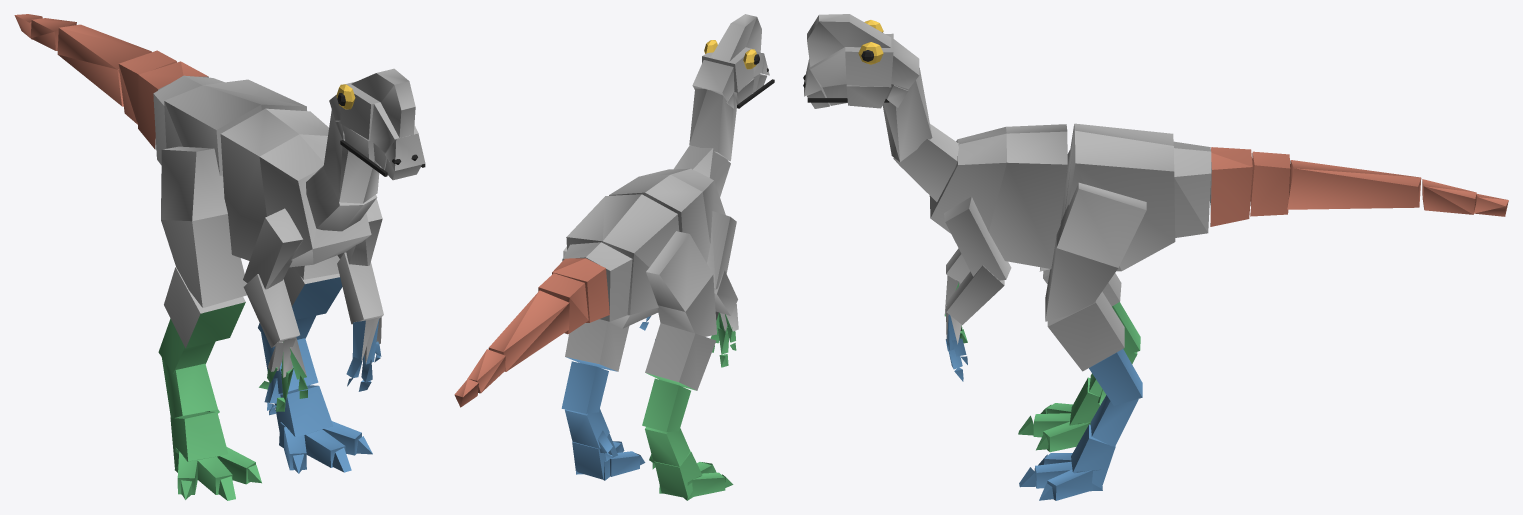
Rendered from oviraptor.fbx.
3 views of the same model, side by side, from view 1: azimuth 30°, elevation 25°; view 2: azimuth 150°, elevation 25°; view 3: azimuth 270°, elevation 25° (orthographic). The views are drawn at different scales.
Parts seen in each view (by area): view 1: oviraptor_Body, oviraptor_LegR, oviraptor_LegL, oviraptor_Tail, oviraptor_Dark; view 2: oviraptor_Body, oviraptor_Tail, oviraptor_LegR, oviraptor_LegL; view 3: oviraptor_Body, oviraptor_Tail, oviraptor_LegL, oviraptor_LegR.
Part boxes in pixels (box(x1,y1,x2,y2)): oviraptor_Body: box(153, 68, 425, 377); oviraptor_LegR: box(158, 302, 307, 500); oviraptor_LegL: box(258, 277, 381, 473); oviraptor_Tail: box(14, 14, 208, 148); oviraptor_Dark: box(337, 93, 425, 176); oviraptor_Body: box(562, 14, 769, 390); oviraptor_Tail: box(454, 258, 609, 407); oviraptor_LegR: box(642, 312, 736, 500); oviraptor_LegL: box(561, 316, 655, 480); oviraptor_Body: box(804, 14, 1211, 371); oviraptor_Tail: box(1210, 147, 1508, 226); oviraptor_LegL: box(945, 314, 1142, 500); oviraptor_LegR: box(945, 282, 1140, 452).
Bounding box in the file's own units: 2.67 × 6.56 × 9.46.
